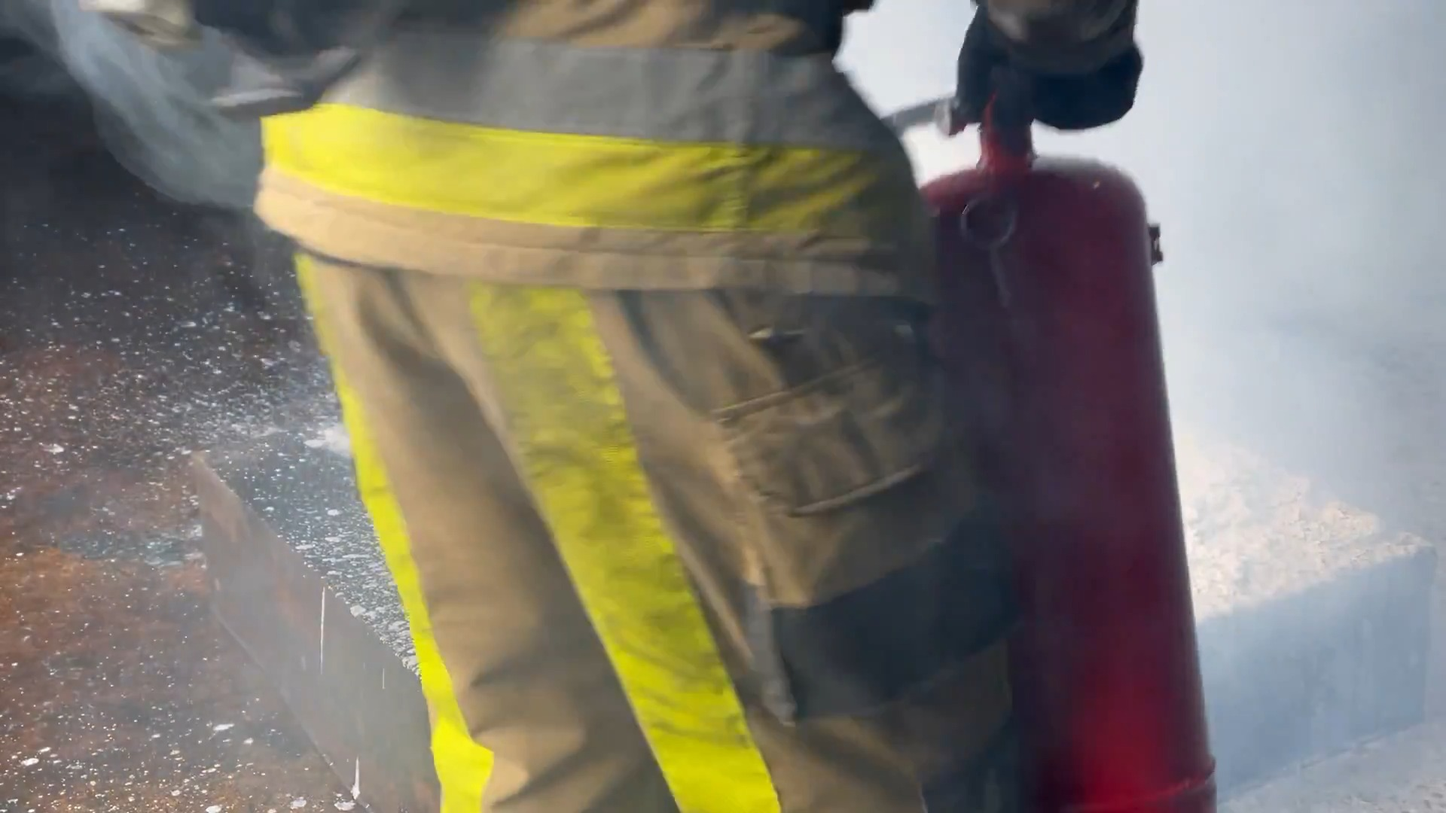smoke: (1143, 6, 1446, 583)
